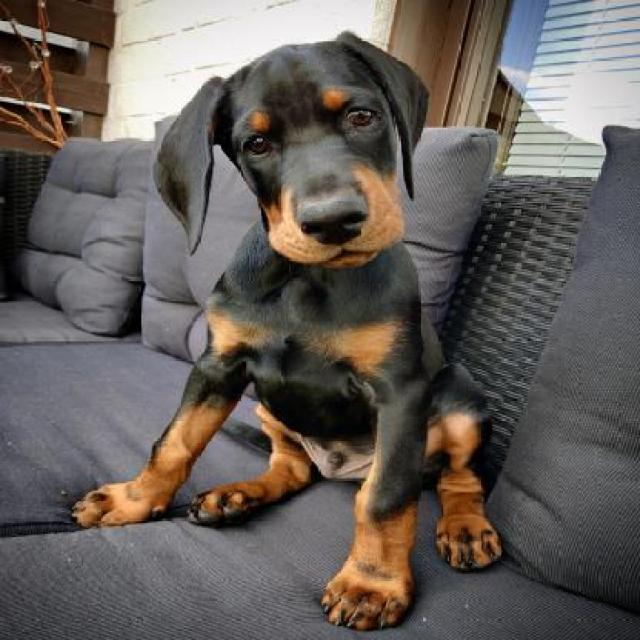animals: (72, 17, 590, 640)
